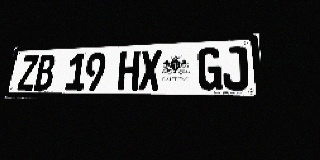1: (65, 53, 88, 90)
9: (84, 52, 107, 90)
B: (34, 54, 56, 90)
G: (198, 47, 222, 90)
H: (117, 51, 140, 90)
J: (222, 46, 249, 90)
X: (138, 50, 162, 90)
Z: (17, 55, 39, 90)
